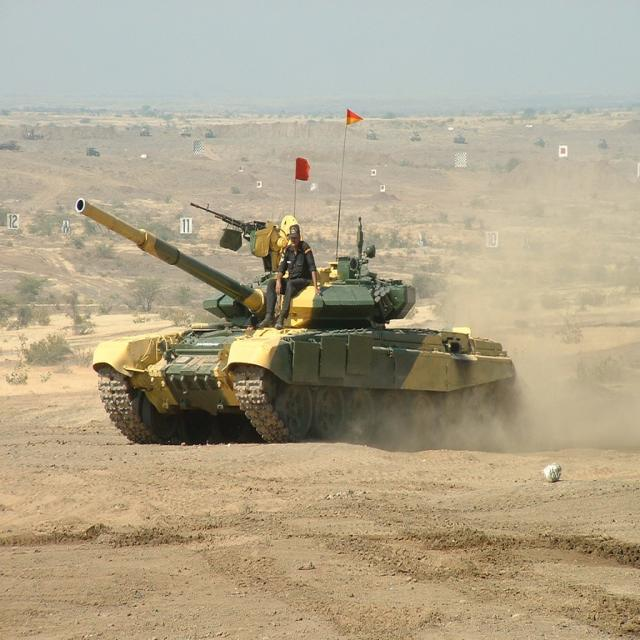tank: (74, 108, 517, 446)
